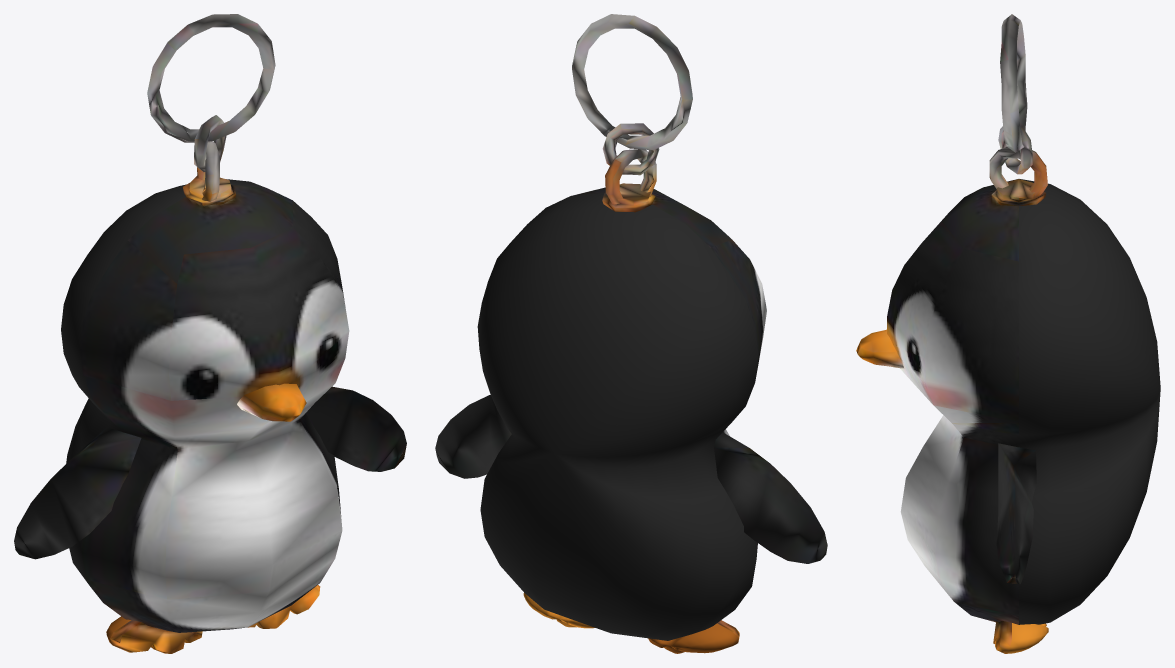
File: penguin-04-42-mini-keychain-size-crochet-penguin.gltf
3 renders of one model, left to right at view 1: azimuth 30°, elevation 25°; view 2: azimuth 150°, elevation 25°; view 3: azimuth 270°, elevation 25°, orthographic. The views are drawn at different scales.
Parts seen in each view (by area): view 1: penguin-04-42-mini-keychain-size-crochet-penguin; view 2: penguin-04-42-mini-keychain-size-crochet-penguin; view 3: penguin-04-42-mini-keychain-size-crochet-penguin.
Part boxes in pixels (<box>): penguin-04-42-mini-keychain-size-crochet-penguin: <box>14,14,406,653</box>; penguin-04-42-mini-keychain-size-crochet-penguin: <box>435,14,827,653</box>; penguin-04-42-mini-keychain-size-crochet-penguin: <box>856,14,1160,653</box>.
Size of the model in its own units: 0.2 by 0.3035 by 0.1395.
Materials: 1 (1 with a texture image).
